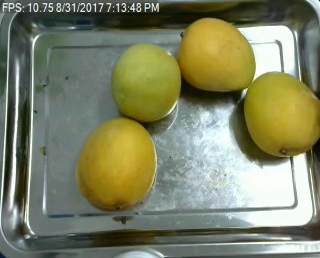Mango: (77, 117, 157, 210), (241, 71, 320, 160), (173, 19, 255, 93), (110, 40, 183, 119)
